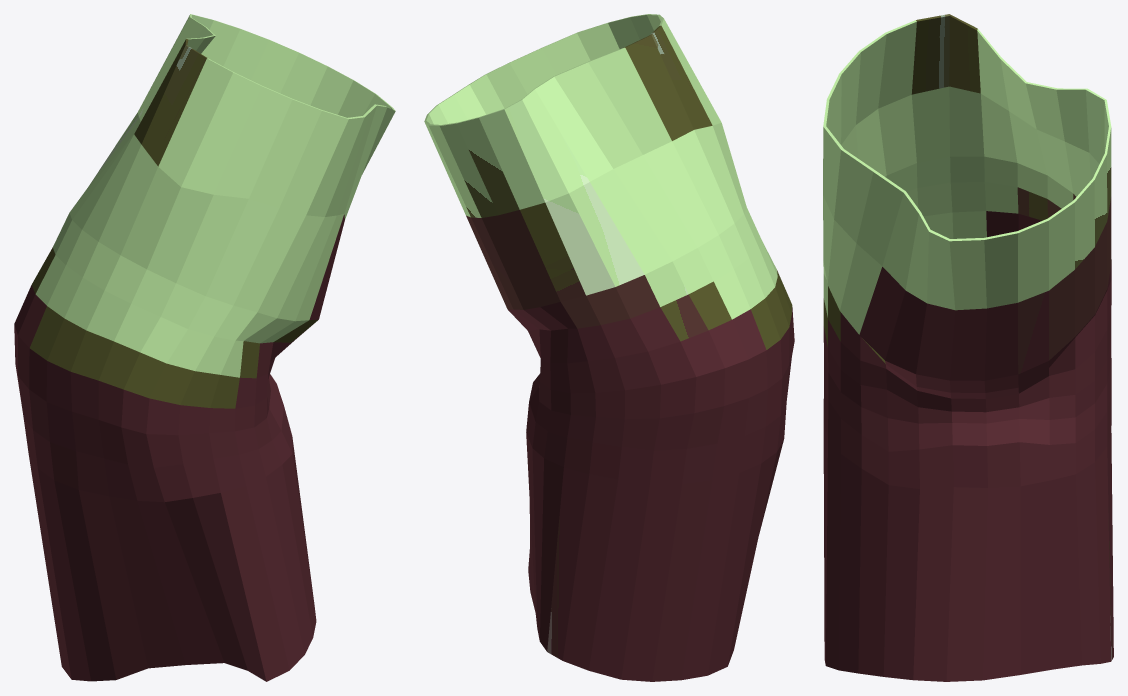
The model's file is jamirullahylsy1.fbx.
The picture shows the model from 3 angles, left to right: view 1: azimuth 30°, elevation 25°; view 2: azimuth 150°, elevation 25°; view 3: azimuth 270°, elevation 25°; orthographic projection. The views are drawn at different scales.
Parts seen in each view (by area): view 1: Cylinder; view 2: Cylinder; view 3: Cylinder.
Boxes of the visible parts, x1=… form: Cylinder: x1=14, y1=14, x2=395, y2=681; Cylinder: x1=424, y1=14, x2=794, y2=681; Cylinder: x1=823, y1=14, x2=1113, y2=681.
Size of the model in its own units: 2.94 by 2.02 by 5.04.
